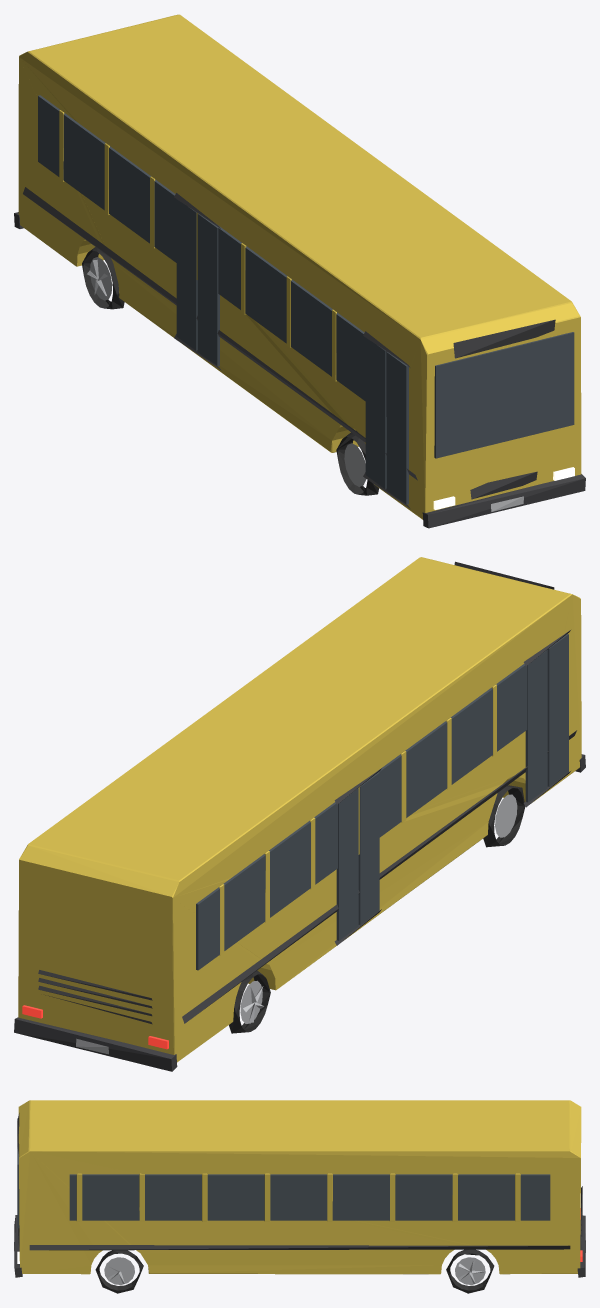
Rendered from bus-lod1.glb.
3 views of the same model, one above another, from view 1: azimuth 30°, elevation 25°; view 2: azimuth 150°, elevation 25°; view 3: azimuth 270°, elevation 25° (orthographic). The views are drawn at different scales.
Bounding box in the file's own units: 2.58 × 3.13 × 11.42.
